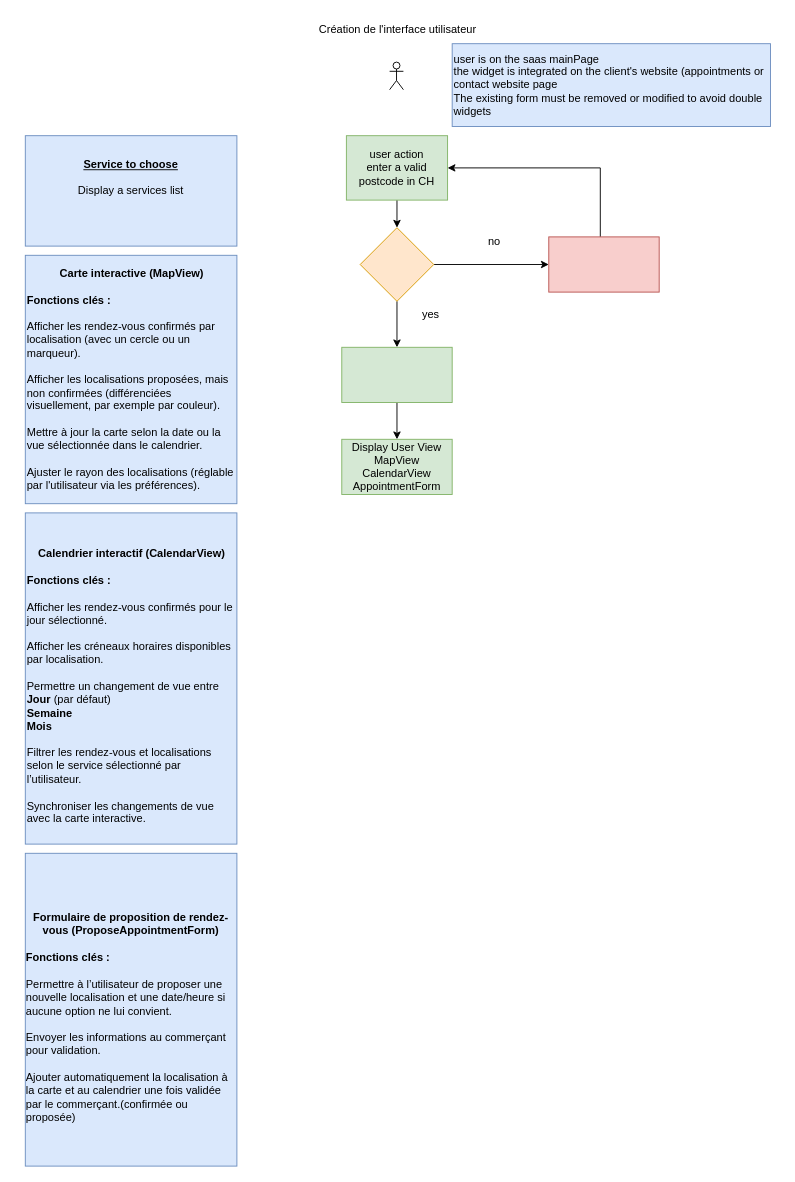
Some shapes in this 795 by 1182 pixel diagram are drawn without their labels. Here are the shapes that lost their labels. From the top down, the centre of each, then its label:
point 396,75: Actor
point 396,264: valid postcode
point 603,264: Display Error message Not a valid postcode in CH (GE?)
point 396,374: User Action to select the service wanted
